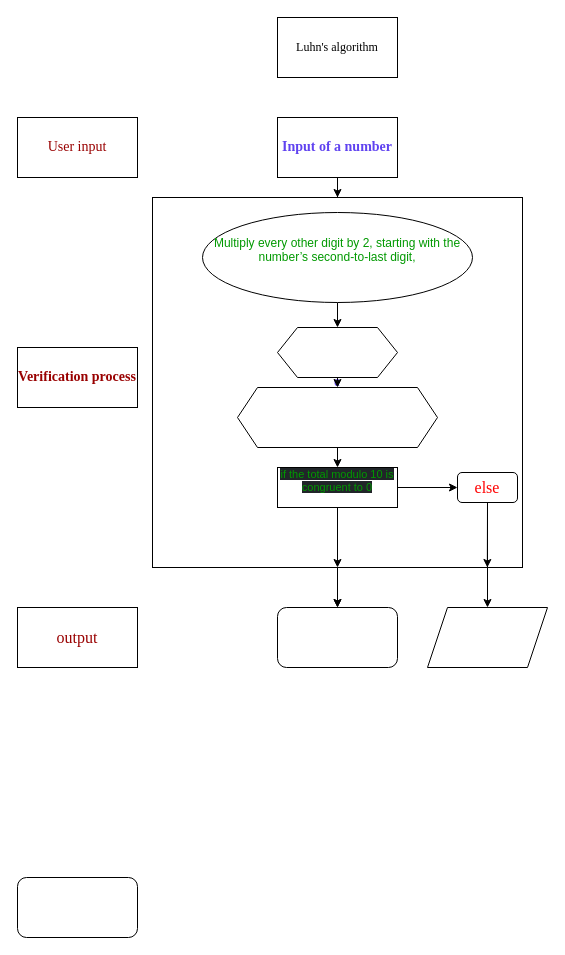
The diagram is 565 pixels wide and 955 high, and some of its shapes have lost their labels. The centre of each missing label's shape, as x and y in pixels:
"Invalid" belongs at point 487,637.
"summing said numbers" belongs at point 337,352.
"summing the sum with the numbers that werent multiplied" belongs at point 337,417.
"Verified" belongs at point 337,637.
